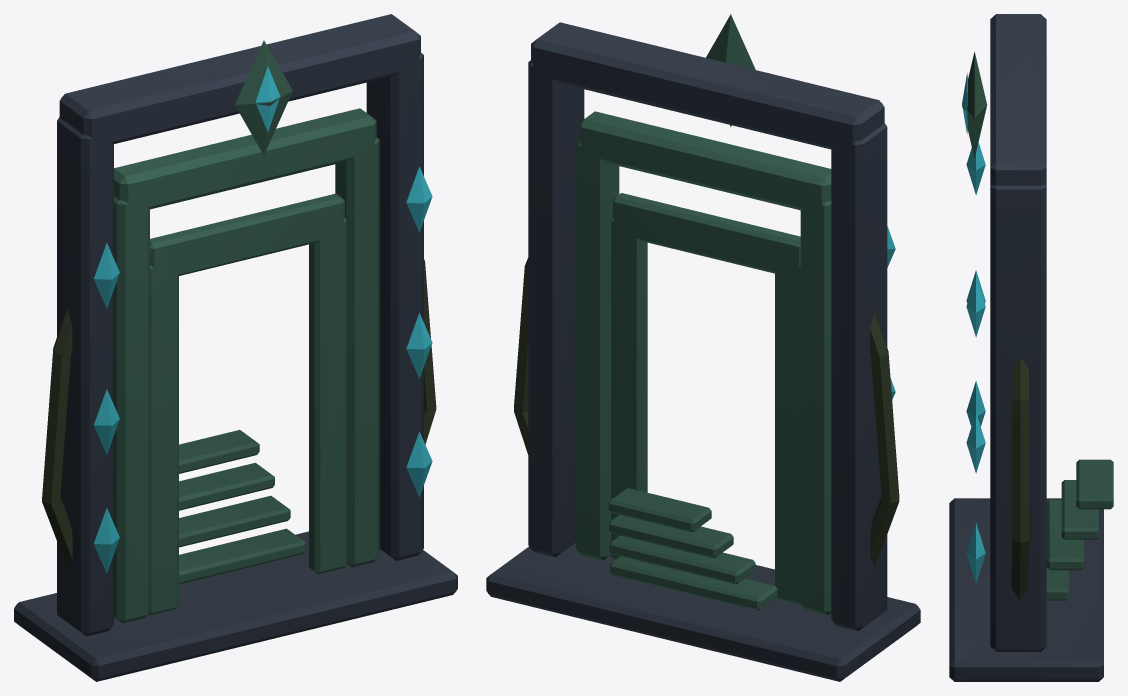
Rendered from nameless_door.fbx.
The picture shows the model from 3 angles, left to right: view 1: azimuth 30°, elevation 25°; view 2: azimuth 150°, elevation 25°; view 3: azimuth 270°, elevation 25°; orthographic projection. The views are drawn at different scales.
Parts seen in each view (by area): view 1: nameless_door; view 2: nameless_door; view 3: nameless_door.
Part boxes in pixels (x1,y1,x2,y2): nameless_door: (14,14,457,681); nameless_door: (486,14,920,681); nameless_door: (949,14,1113,681).
Bounding box in the file's own units: 2.85 × 4.08 × 1.11.
